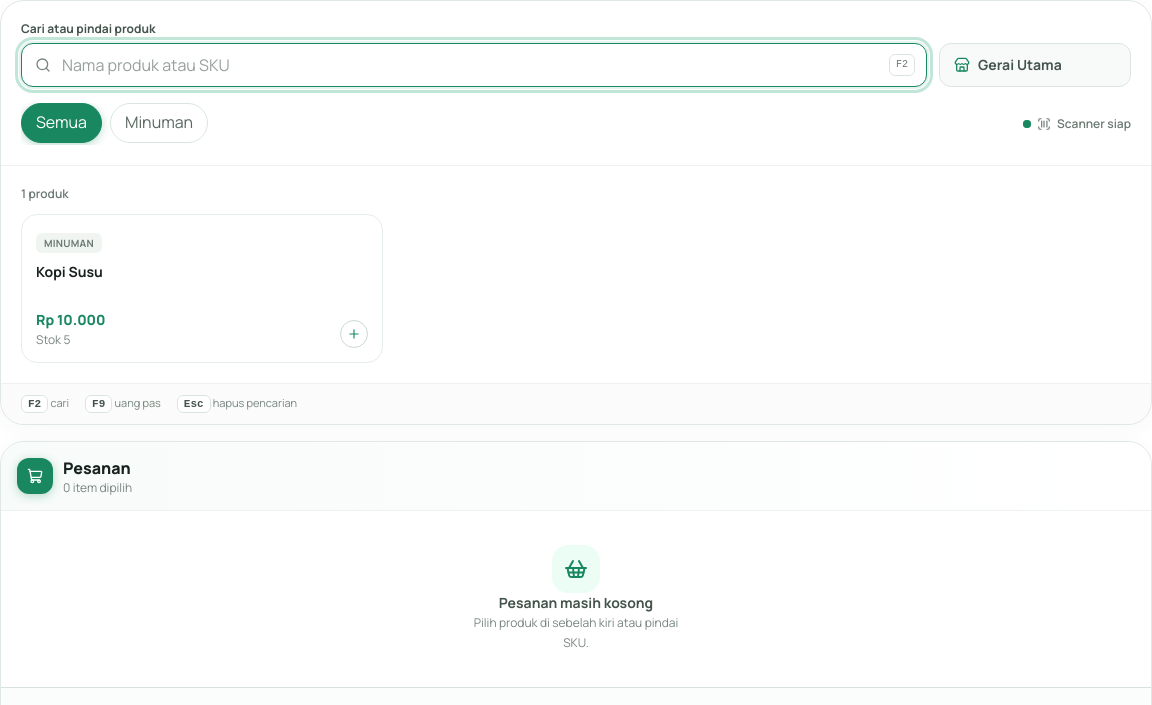
Scenario: PosTerminal › menyegarkan data server setelah transaksi berhasil
The image size is (1152, 705).
Step 1. Click the button "Minuman Kopi Susu Rp 10.000 Stok 5" → [69, 243], box [21,214,383,363]
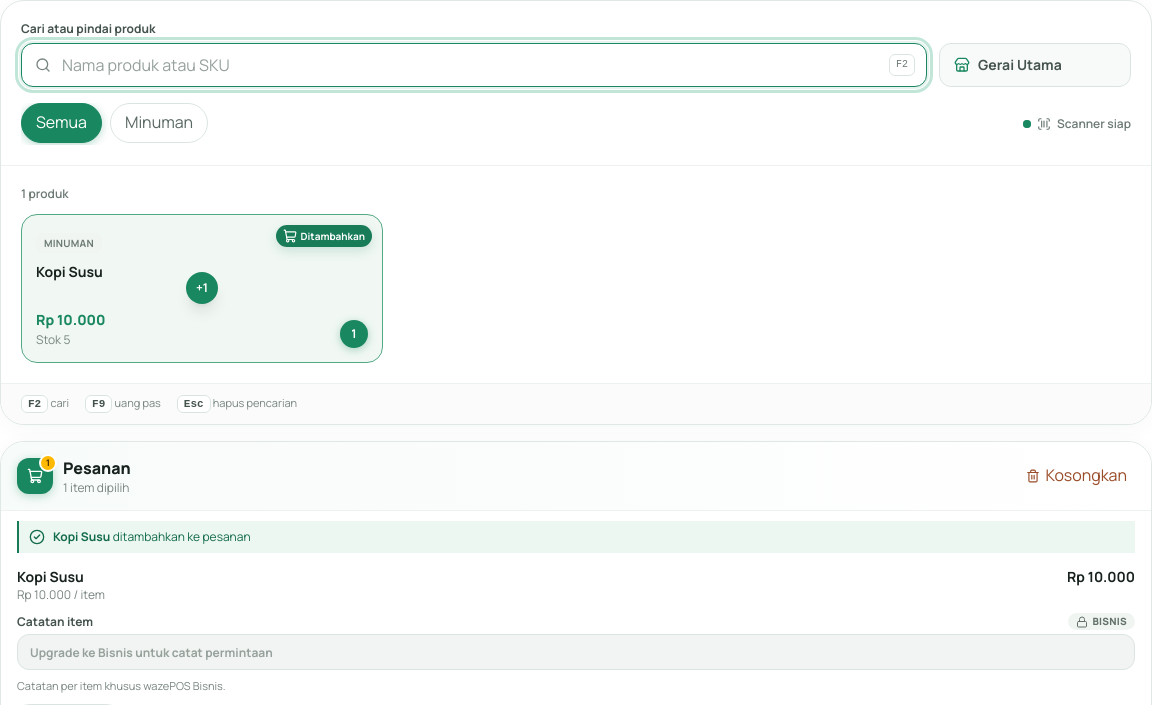
Step 2. Press F9
(page scrolled)
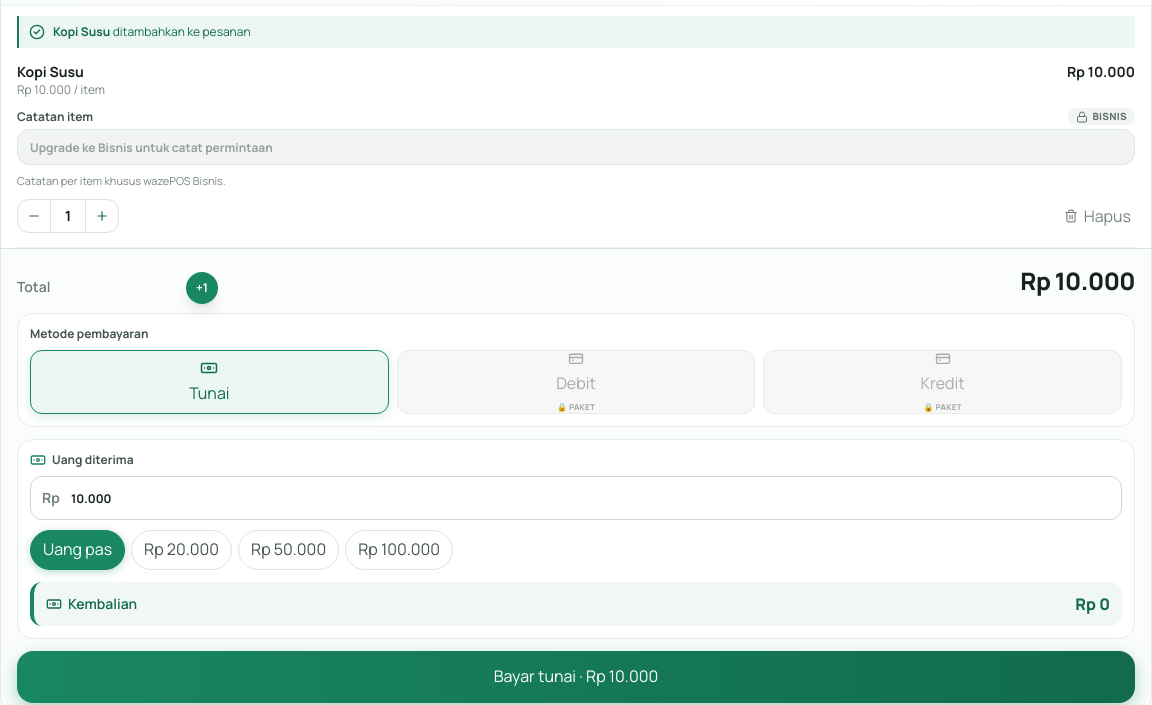
Step 3. Click the button "Bayar tunai · Rp 10.000" → [576, 677], box [17,651,1135,703]
(page scrolled)
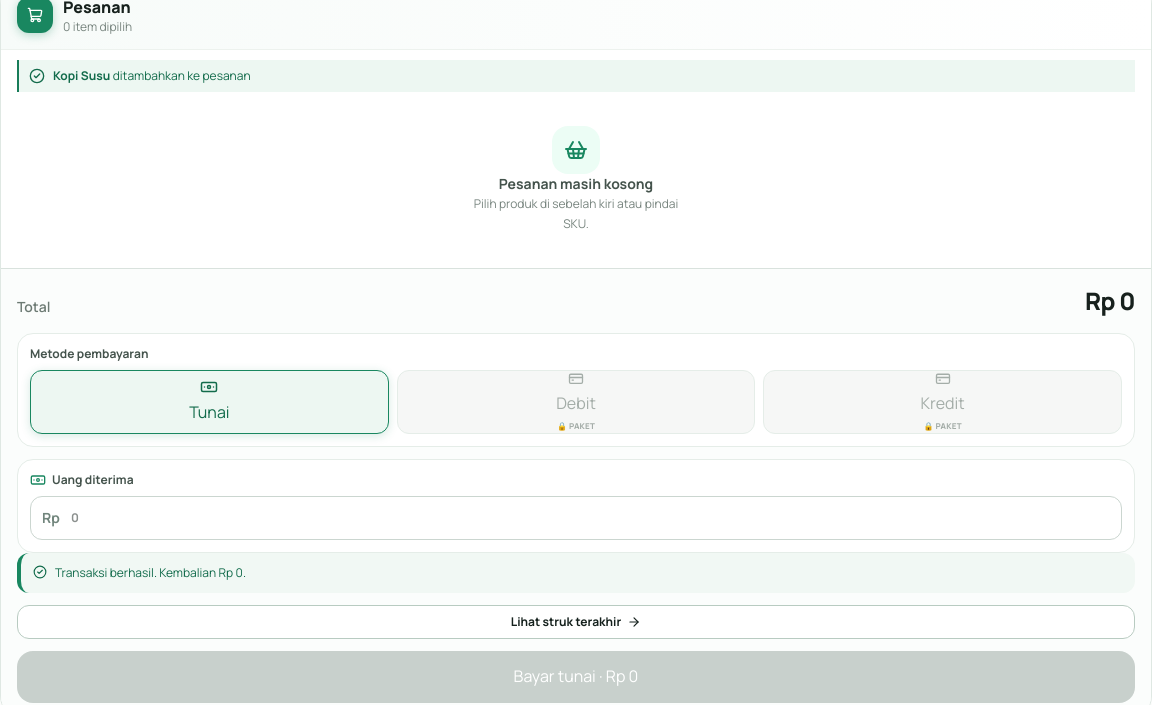
Check: the text "0 item dipilih" is shown, box [63,19,132,35]
